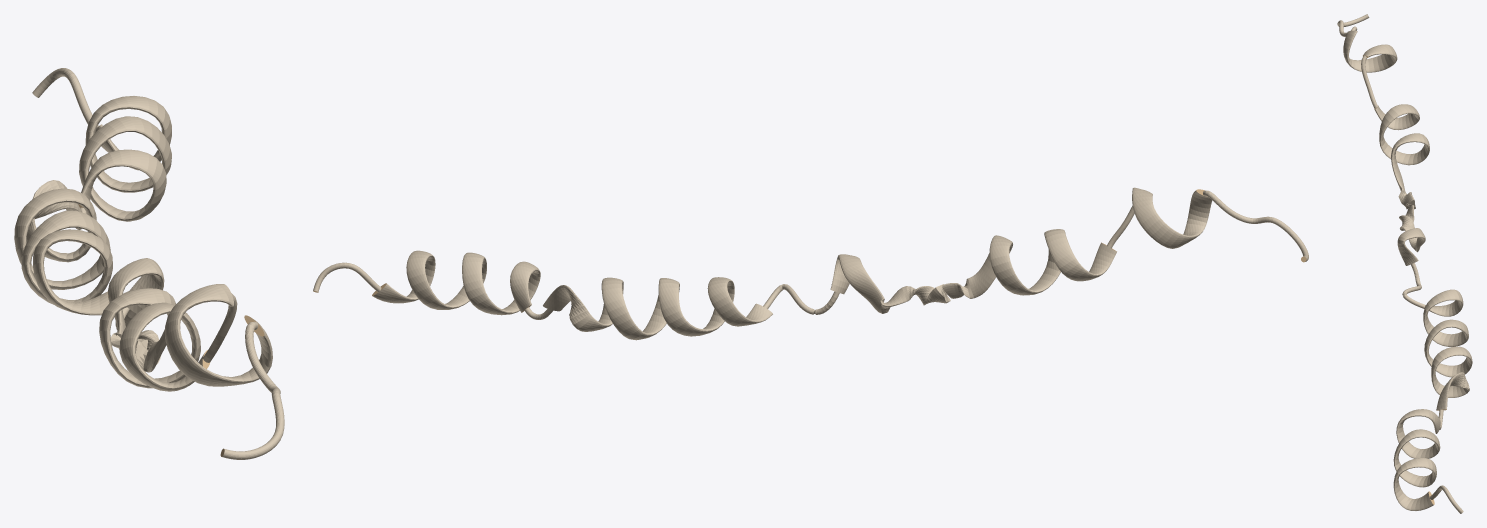
File: fCoilrCoilHelix.dae
The picture shows the model from 3 angles, left to right: view 1: azimuth 90°, elevation 25°; view 2: azimuth 150°, elevation 25°; view 3: azimuth 270°, elevation 25°; orthographic projection. The views are drawn at different scales.
Parts seen in each view (by area): view 1: Shape_IndexedTriangleStripSet_061; view 2: Shape_IndexedTriangleStripSet_061; view 3: Shape_IndexedTriangleStripSet_061.
Boxes of the visible parts, x1,y1,x2,y2 form: Shape_IndexedTriangleStripSet_061: [14, 68, 284, 459]; Shape_IndexedTriangleStripSet_061: [313, 187, 1308, 340]; Shape_IndexedTriangleStripSet_061: [1337, 14, 1472, 513].
Bounding box in the file's own units: 93.09 × 15.66 × 25.92.
